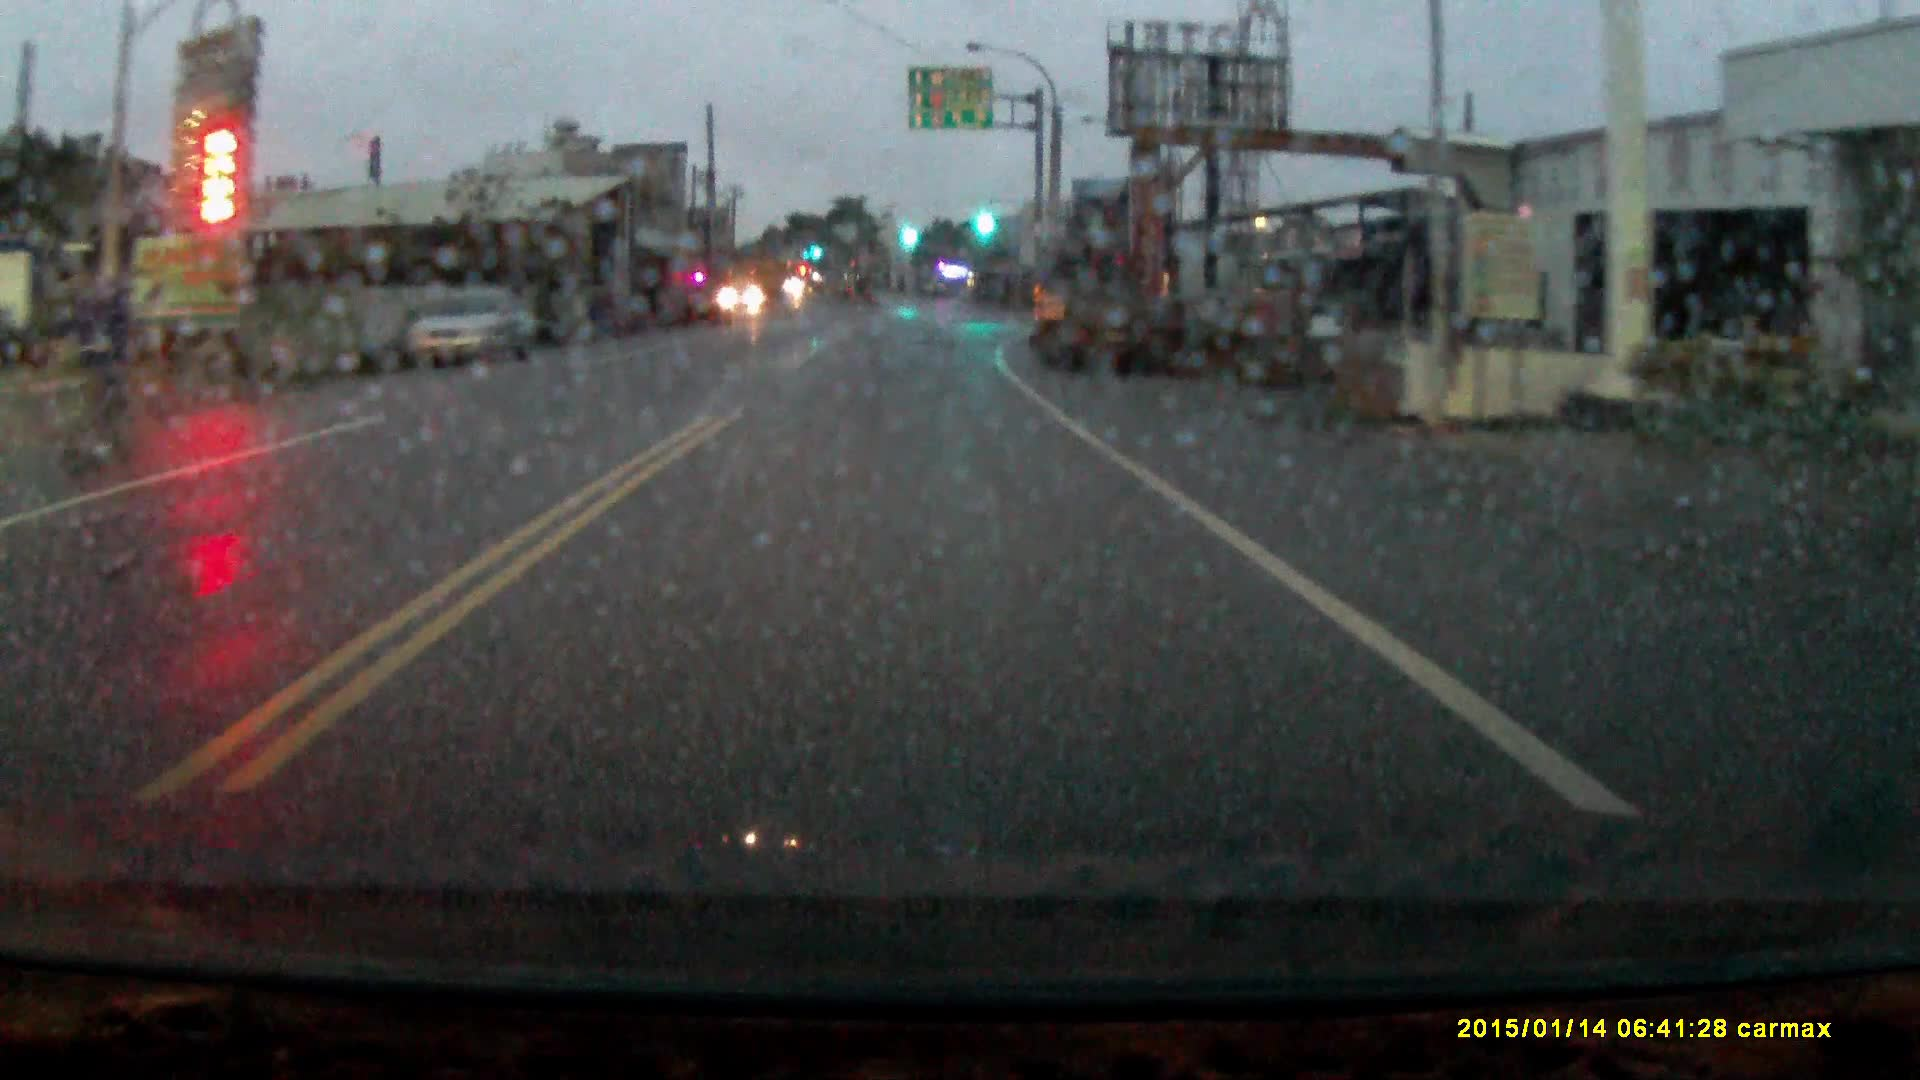rider: (33, 255, 148, 493)
vehicle: (1032, 257, 1155, 382), (403, 293, 537, 369), (714, 260, 785, 322)
